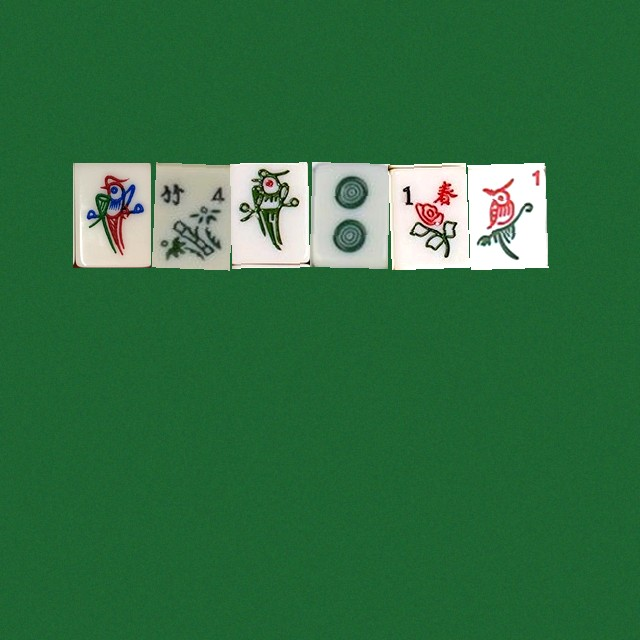tile: (72, 162, 150, 267), (151, 162, 229, 267), (230, 162, 308, 267), (309, 162, 387, 267), (388, 162, 466, 267), (467, 162, 545, 267)
